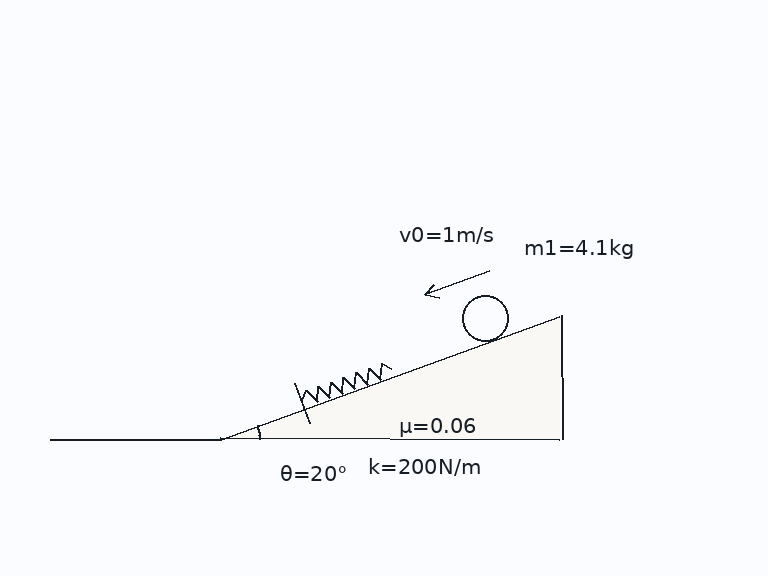ball: (460, 293, 510, 343)
ramp: (218, 313, 562, 441)
spring: (300, 361, 392, 404)
